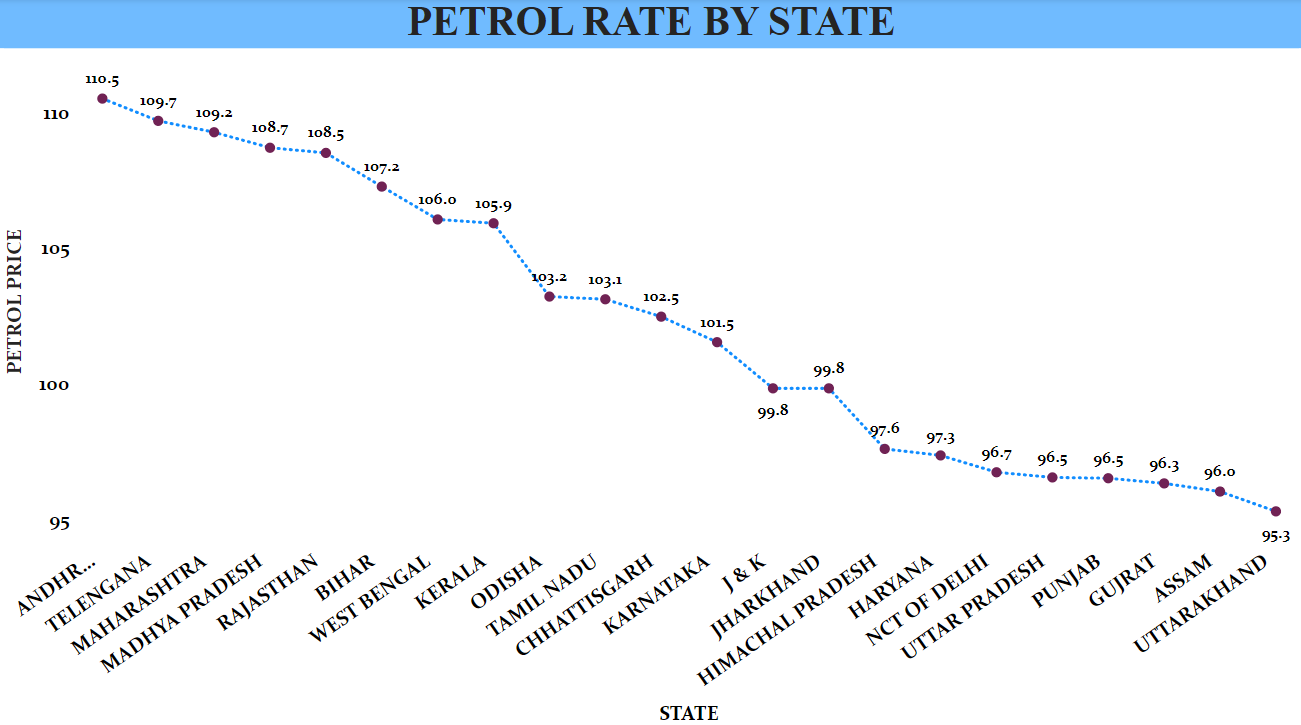

The page's visual inventory and layout, read from the dashboard file:
{"tool":"powerbi","page":{"name":"PETROL","canvas":[1280,720],"ordinal":1},"visuals":[{"type":"lineChart","title":"PETROL RATE BY STATE ","fields":{"Category":["PETROL.STATE "],"Y":["Sum(PETROL.PETROL)"]},"box":[0,0,1280.7,719.8],"z":2}]}

Visuals, with their boxes in screenshot pixels (x1, y1, x2, y2), scaled from the page's 1280x720 canvas onto the 1301x725 screenshot:
"PETROL RATE BY STATE " lineChart: 0:0:1300:724
